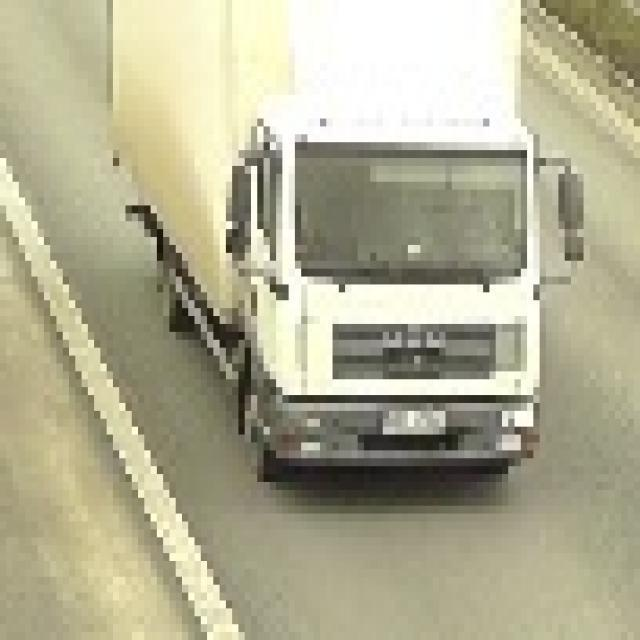Truck: (113, 0, 590, 482)
